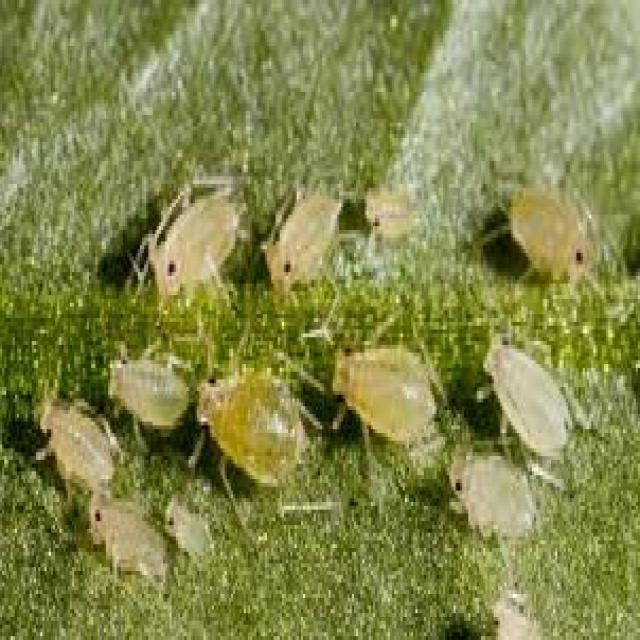Aphid: (190, 354, 334, 504), (130, 164, 244, 328), (338, 304, 449, 452), (473, 314, 570, 471), (472, 159, 586, 292), (255, 173, 341, 311), (446, 425, 532, 552), (107, 330, 198, 424), (42, 389, 114, 487), (81, 501, 168, 571), (353, 173, 419, 256), (161, 490, 208, 573)
